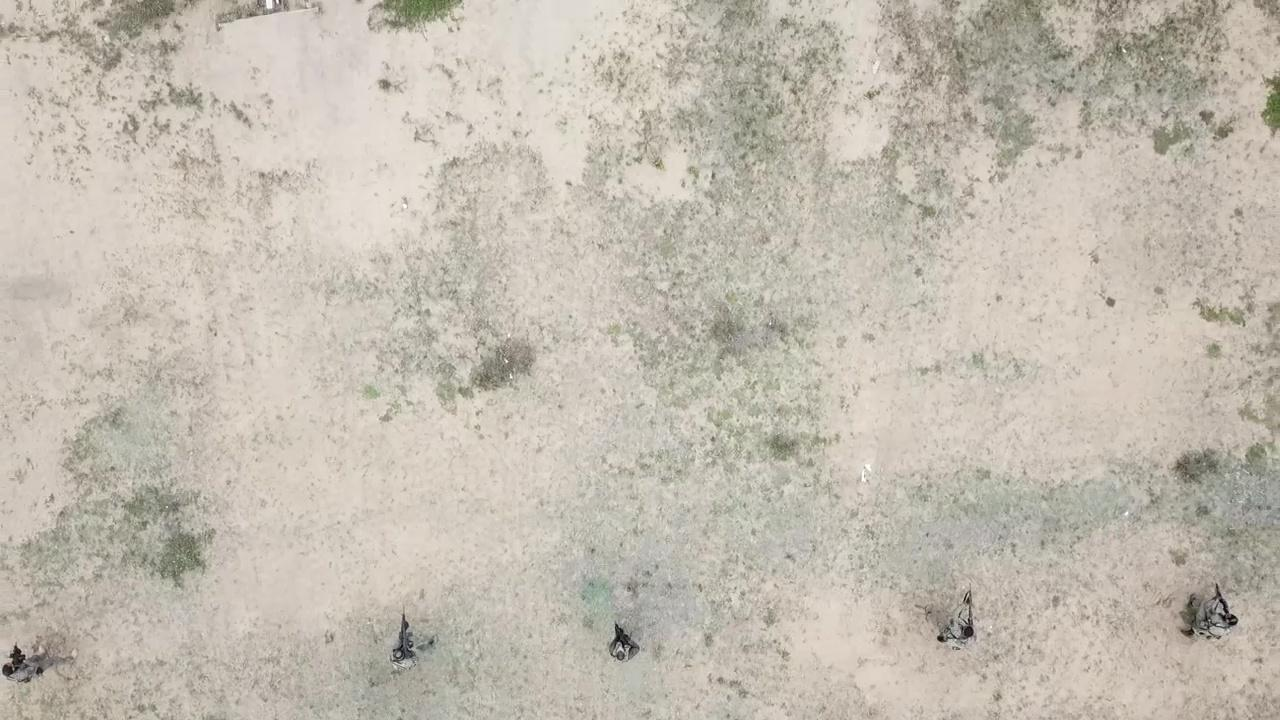Soldier: (915, 569, 987, 656), (384, 597, 443, 687), (601, 605, 655, 667)
